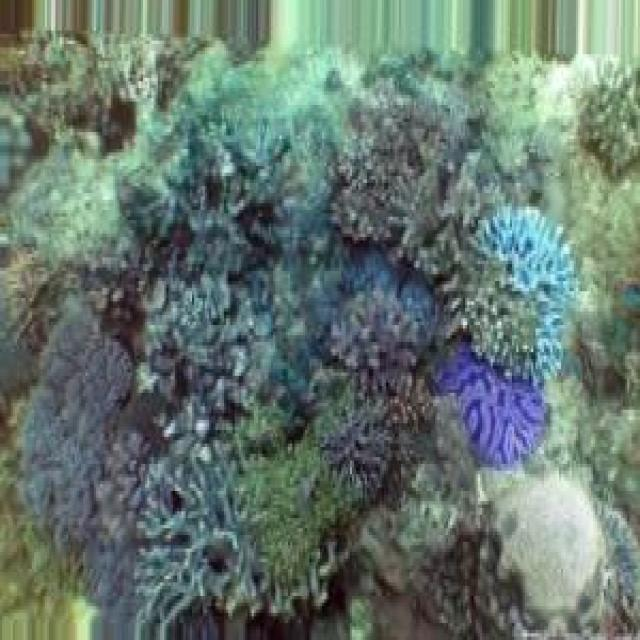Healthy: (146, 150, 430, 495), (24, 275, 144, 536), (138, 441, 272, 640), (231, 424, 368, 611), (479, 462, 622, 638), (458, 204, 579, 380), (438, 343, 551, 472)
